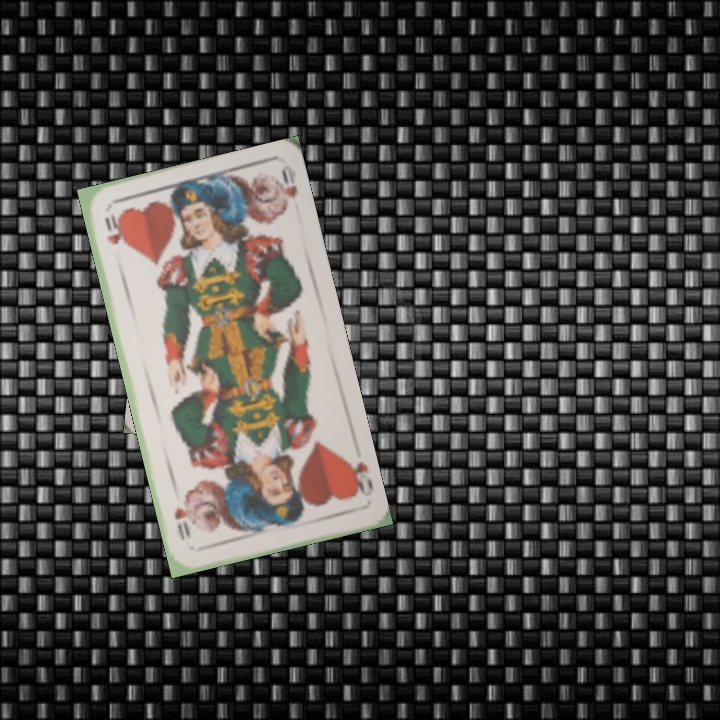HO: (341, 456, 376, 499), (101, 208, 123, 247)
